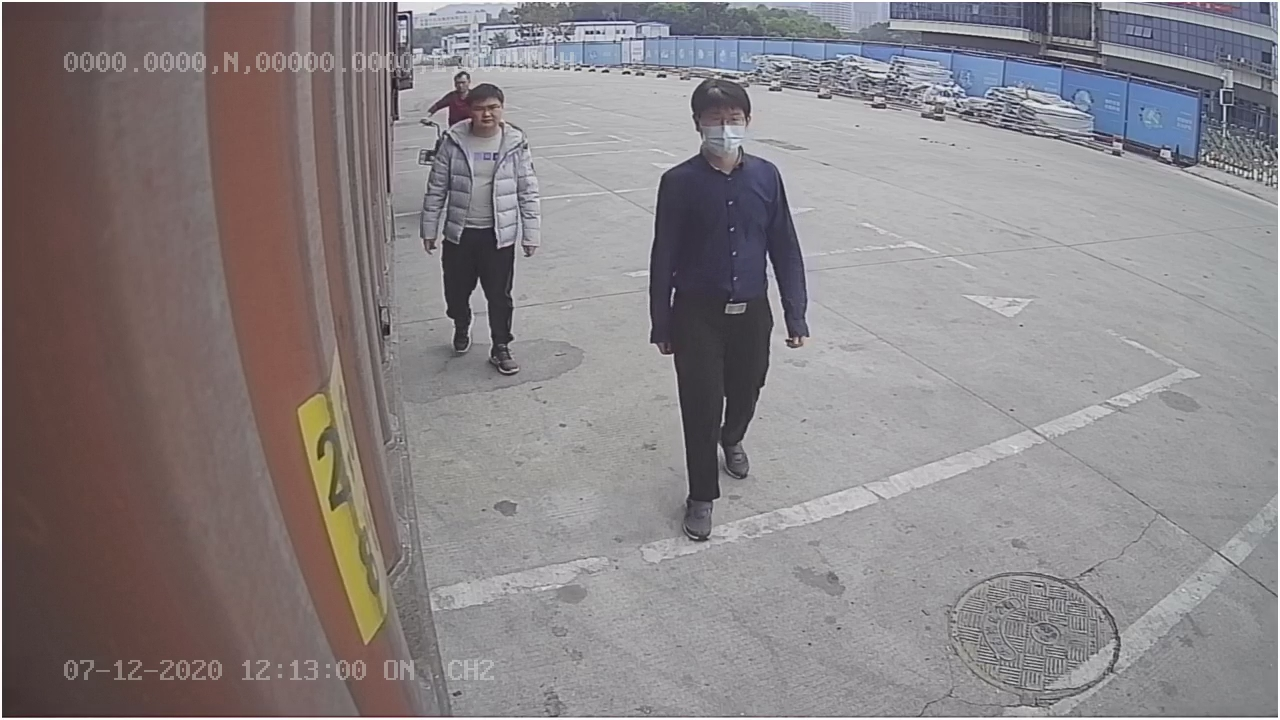person: (647, 71, 808, 540)
